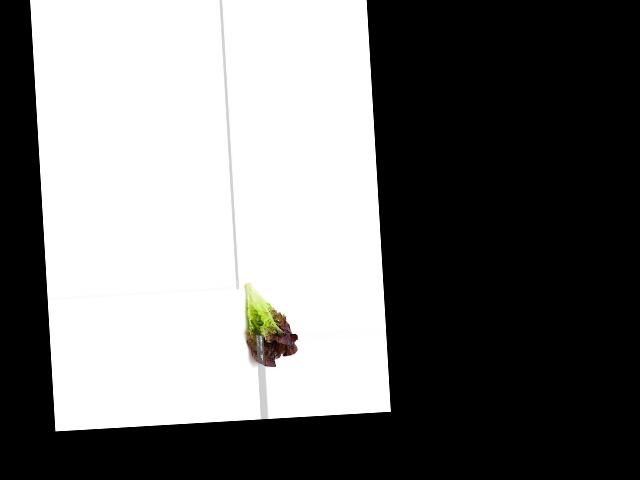lettuce: (238, 277, 300, 370)
